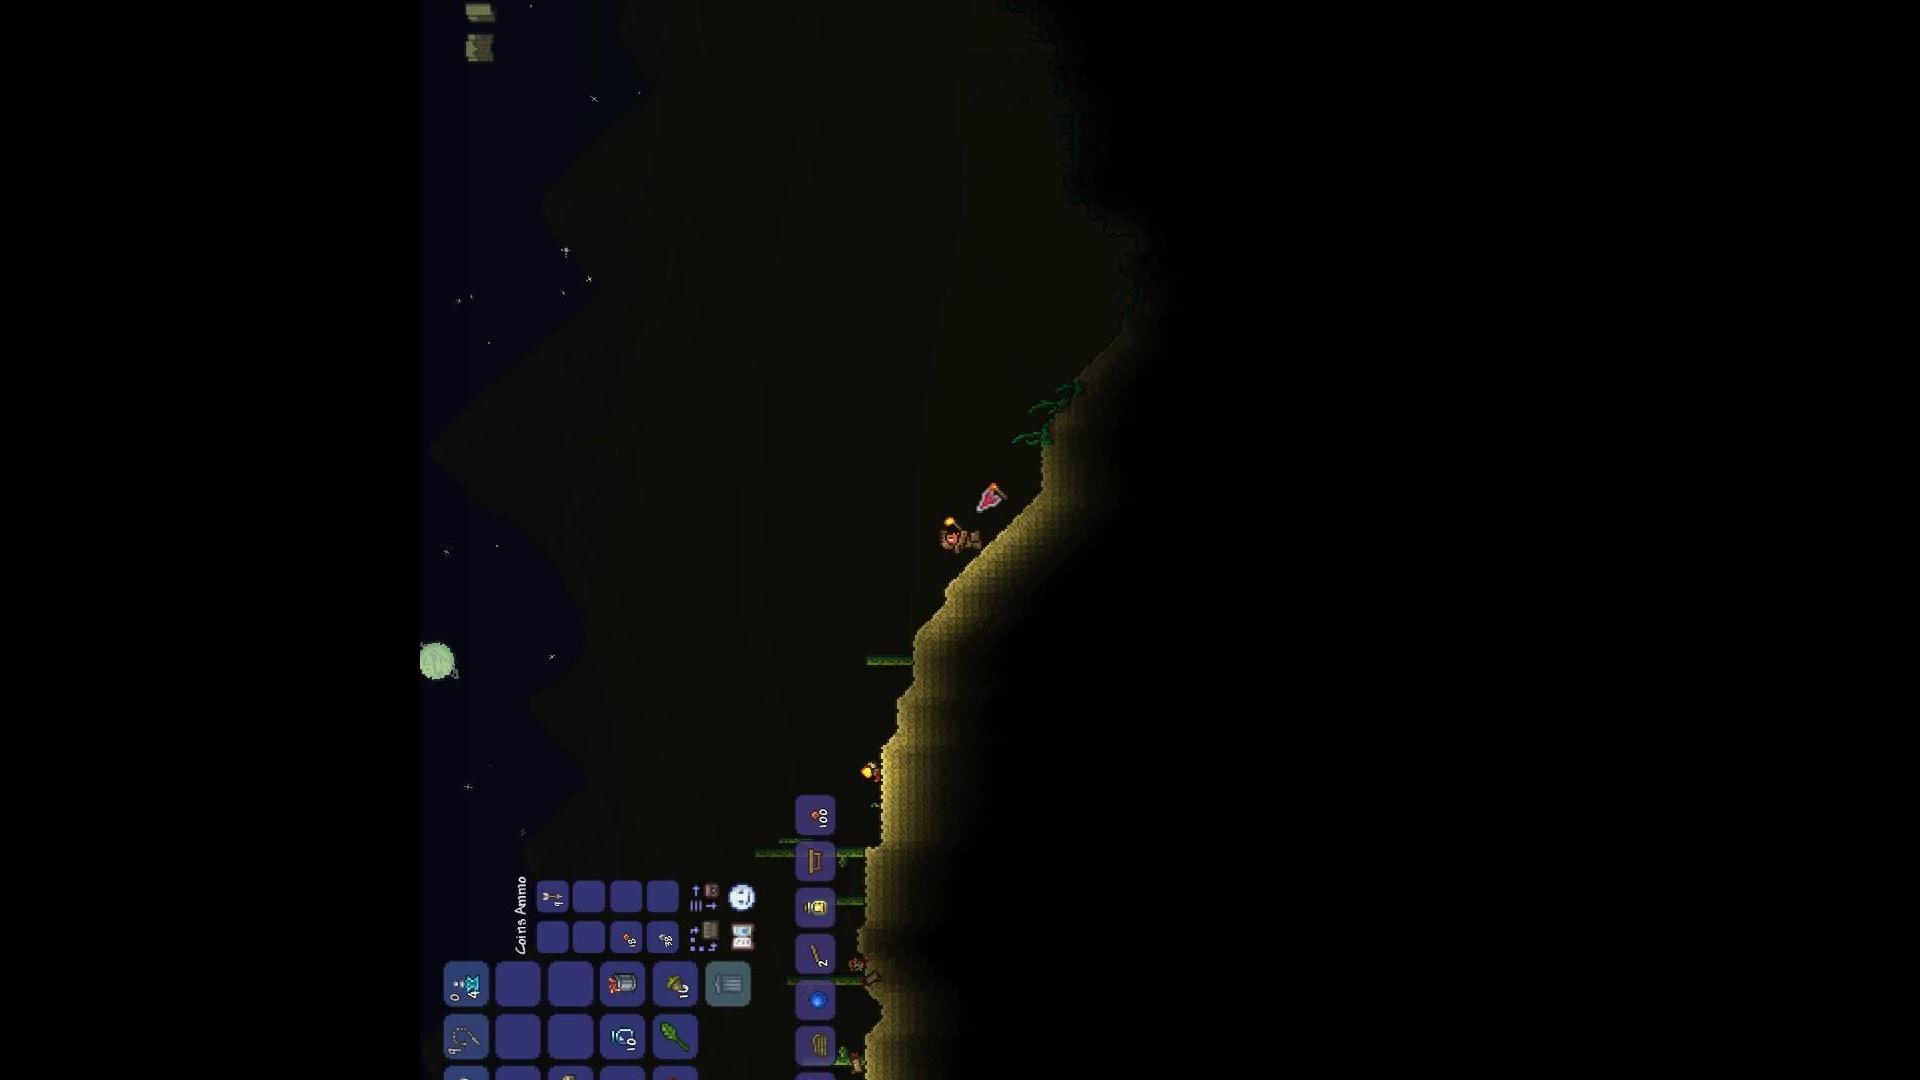platform: (808, 943, 823, 964)
